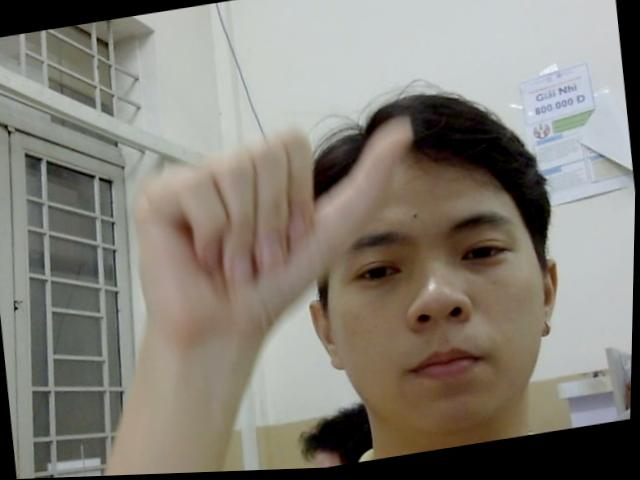A: (115, 106, 437, 335)
